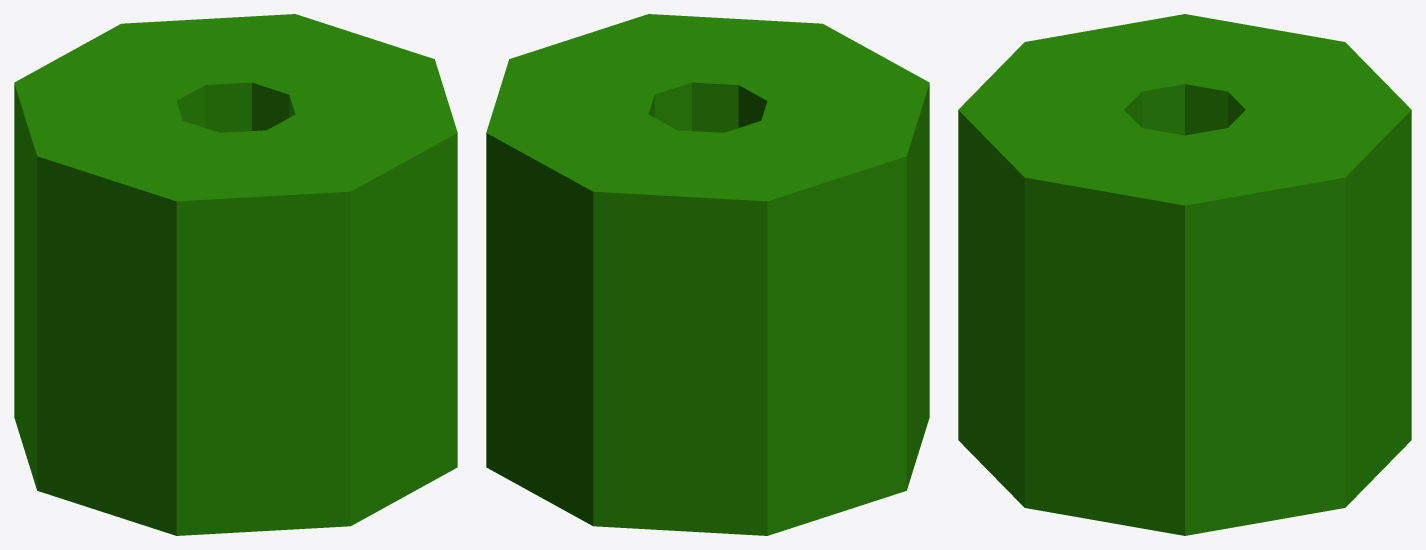
The model's file is scallion02.gltf.
3 views of the same model, side by side, from view 1: azimuth 30°, elevation 25°; view 2: azimuth 150°, elevation 25°; view 3: azimuth 270°, elevation 25° (orthographic).
Visible parts, largest first — view 1: Cylinder; view 2: Cylinder; view 3: Cylinder.
Boxes of the visible parts, x1,y1,x2,y2 form: Cylinder: (14,14,457,535); Cylinder: (486,14,929,535); Cylinder: (958,14,1411,535).
Size of the model in its own units: 0.0158 by 0.0127 by 0.0158.
Materials: 1 (1 with a texture image).
